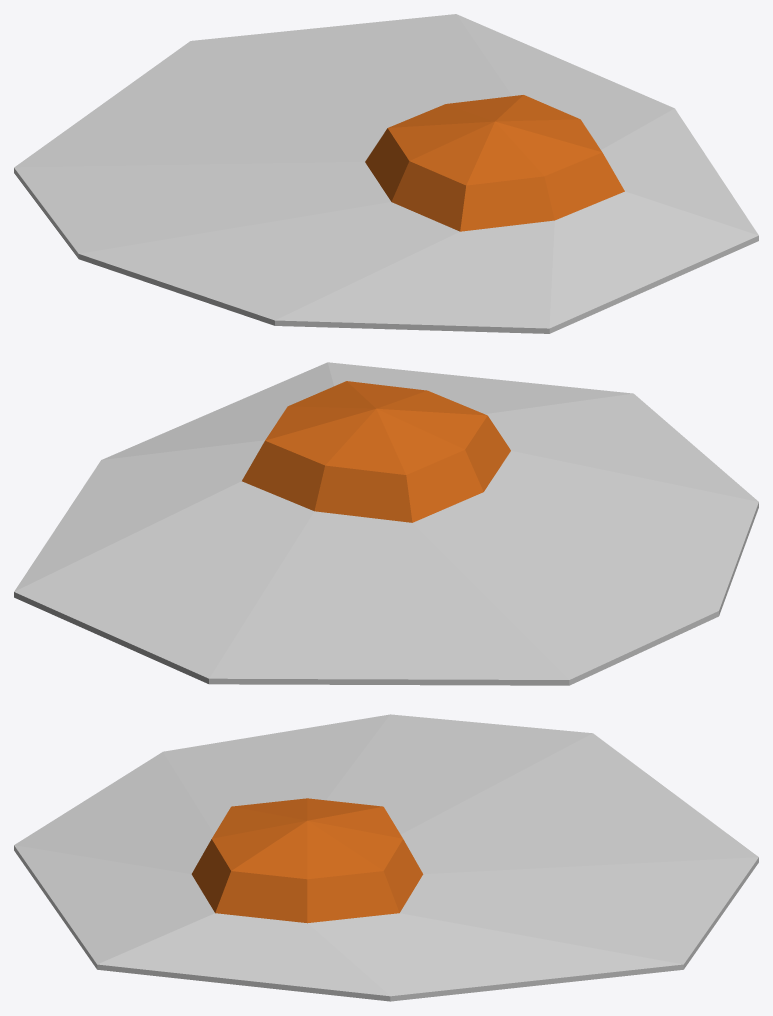
File: friedEgg02.fbx
3 views of the same model, one above another, from view 1: azimuth 30°, elevation 25°; view 2: azimuth 150°, elevation 25°; view 3: azimuth 270°, elevation 25° (orthographic). The views are drawn at different scales.
Visible parts, largest first — view 1: friedEgg02; view 2: friedEgg02; view 3: friedEgg02.
Part boxes in pixels (x1=…): friedEgg02: x1=14, y1=14, x2=758, y2=333; friedEgg02: x1=14, y1=362, x2=758, y2=685; friedEgg02: x1=14, y1=714, x2=758, y2=1001.
Size of the model in its own units: 14.26 by 1.78 by 15.92.
1 material, 1 textured.
